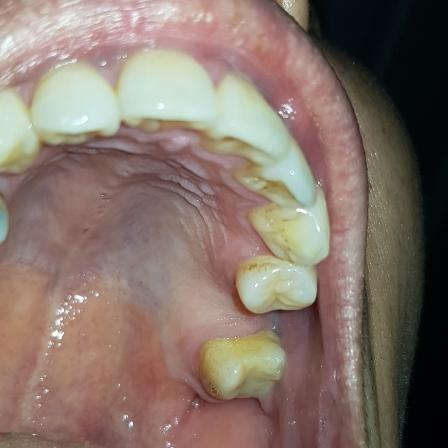Healthy: (29, 43, 211, 149), (206, 81, 317, 213)
Missing: (185, 263, 321, 403)
